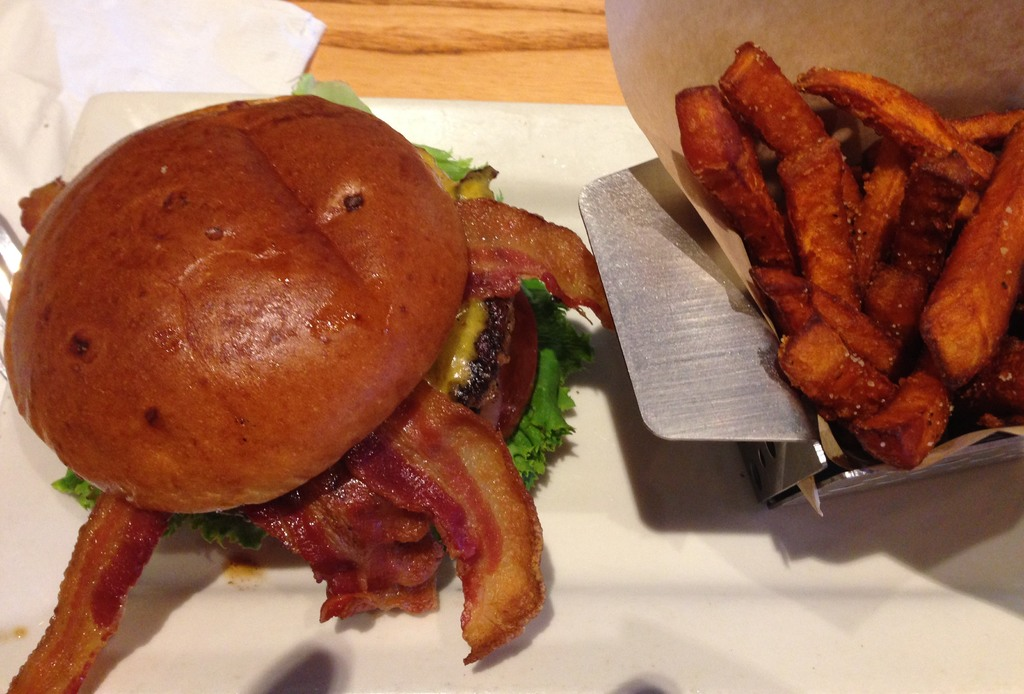French fries: (672, 49, 1006, 441)
